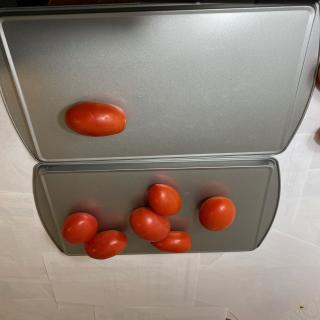Tomato: (64, 101, 126, 137), (129, 206, 171, 242), (198, 196, 236, 231), (84, 230, 128, 260), (147, 183, 182, 216), (62, 212, 98, 244), (150, 231, 192, 253)
